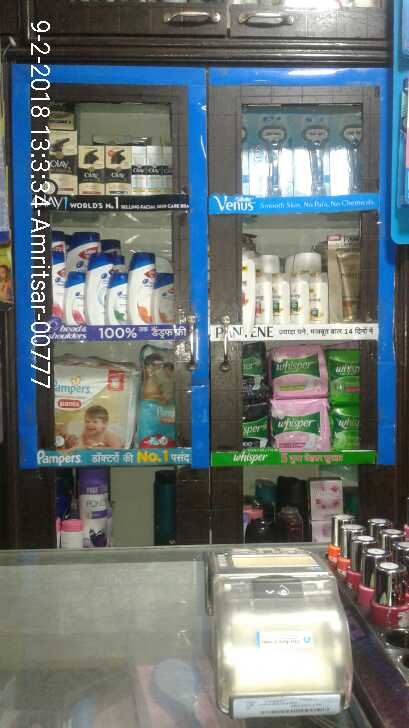venus: (248, 108, 292, 189), (329, 106, 366, 193), (292, 108, 329, 193)
